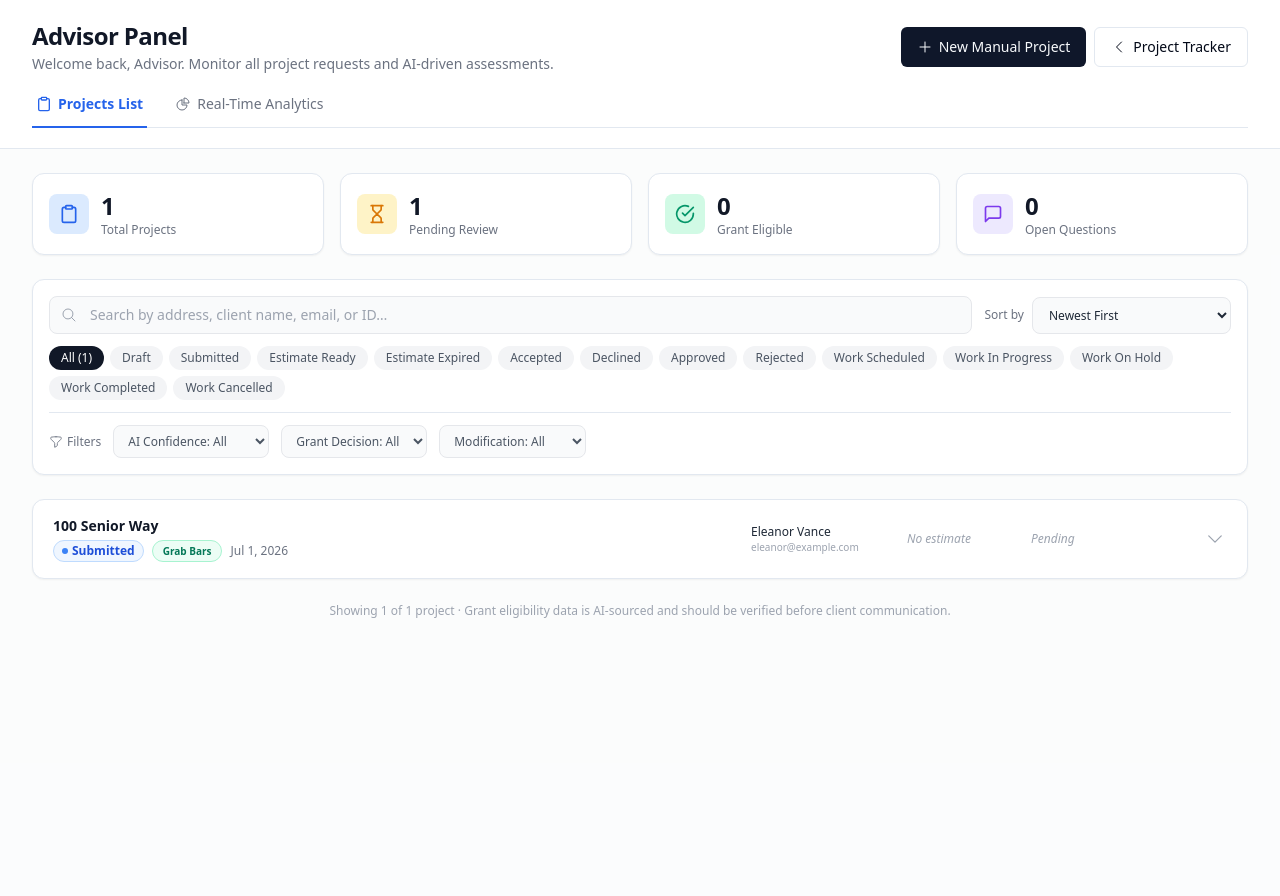
Test: Admin Dashboard Detail View › renders full submission details when a project row is expanded
// Click on the row or address to expand detail view
Click the text "100 Senior Way".
click(106, 526)  # box 53,516 -> 158,535
(page scrolled)
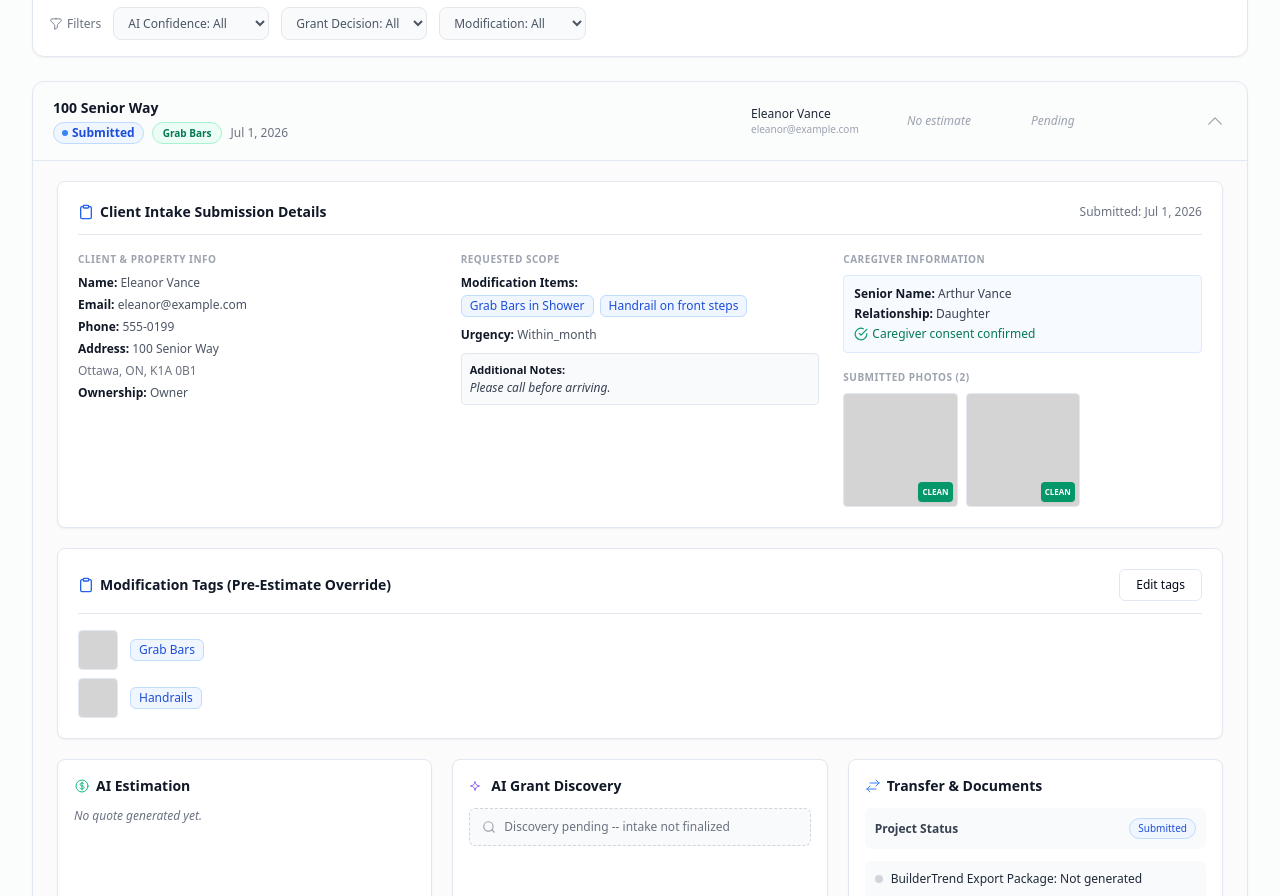
Expected: the heading "Client Intake Submission Details" is shown, 78,202 -> 327,222
Expected: the text "555-0199" is shown, 122,318 -> 174,335
Expected: the text "Ottawa, ON, K1A 0B1" is shown, 78,362 -> 197,379
